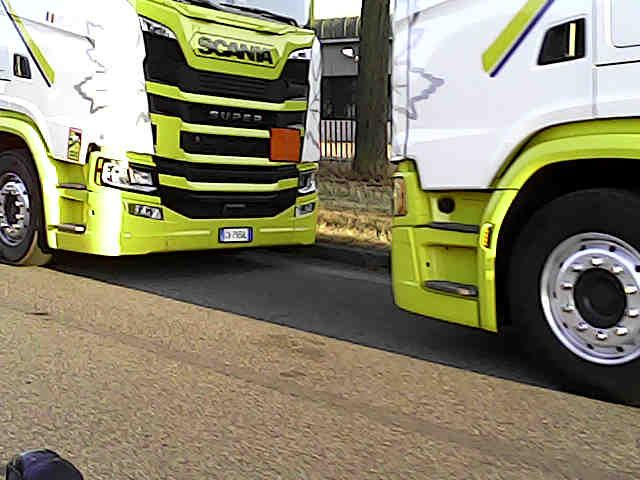whitevan: (392, 0, 639, 403), (0, 0, 320, 263)
